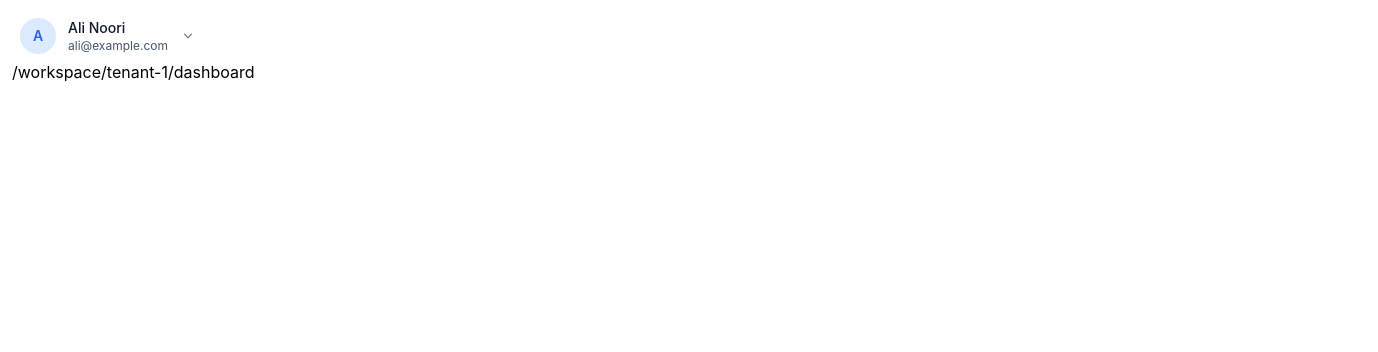
UserMenu tenant switcher › shows the create workspace option when the menu is opened
Click the button with aria-label "user menu for ali noori". click: coordinates (108, 36)
box: [12,12,204,60]
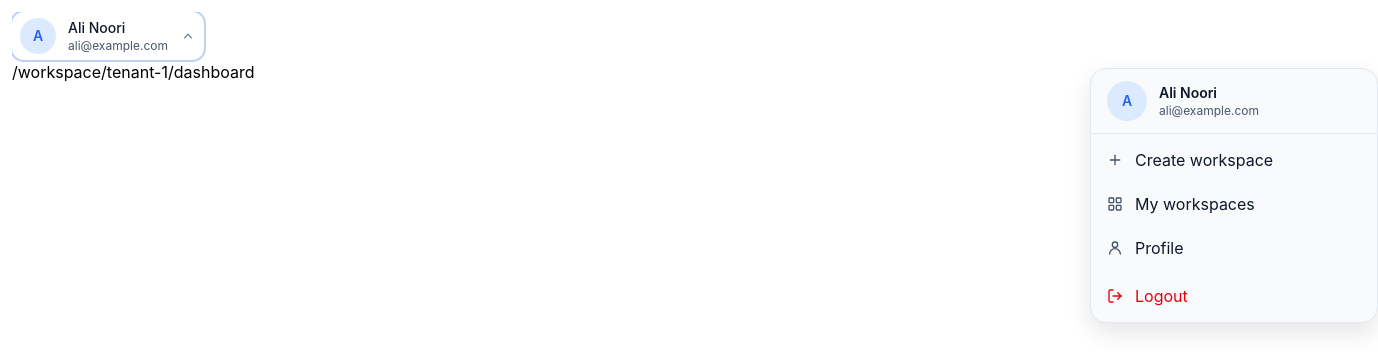
Now the menu item "Create workspace" is shown, box [1095,138,1373,182]
